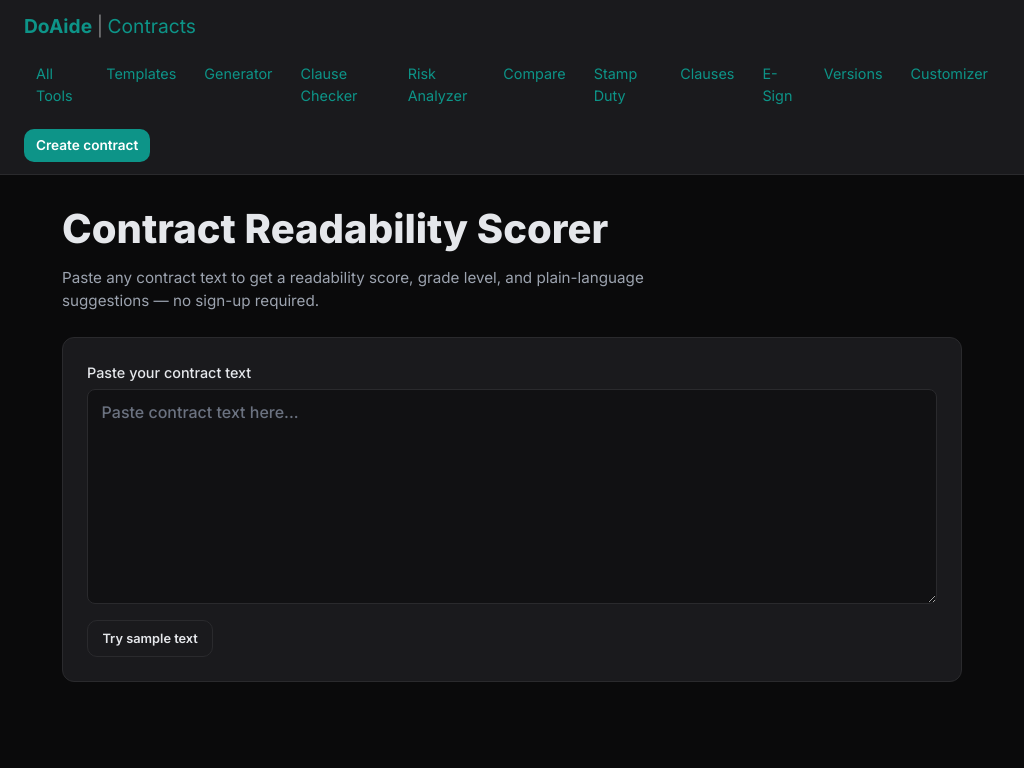
it: ReadabilityScorerPage › loads sample text on button click
Click the button "Try sample text" at {"x": 150, "y": 638}, box [87,620,213,657]
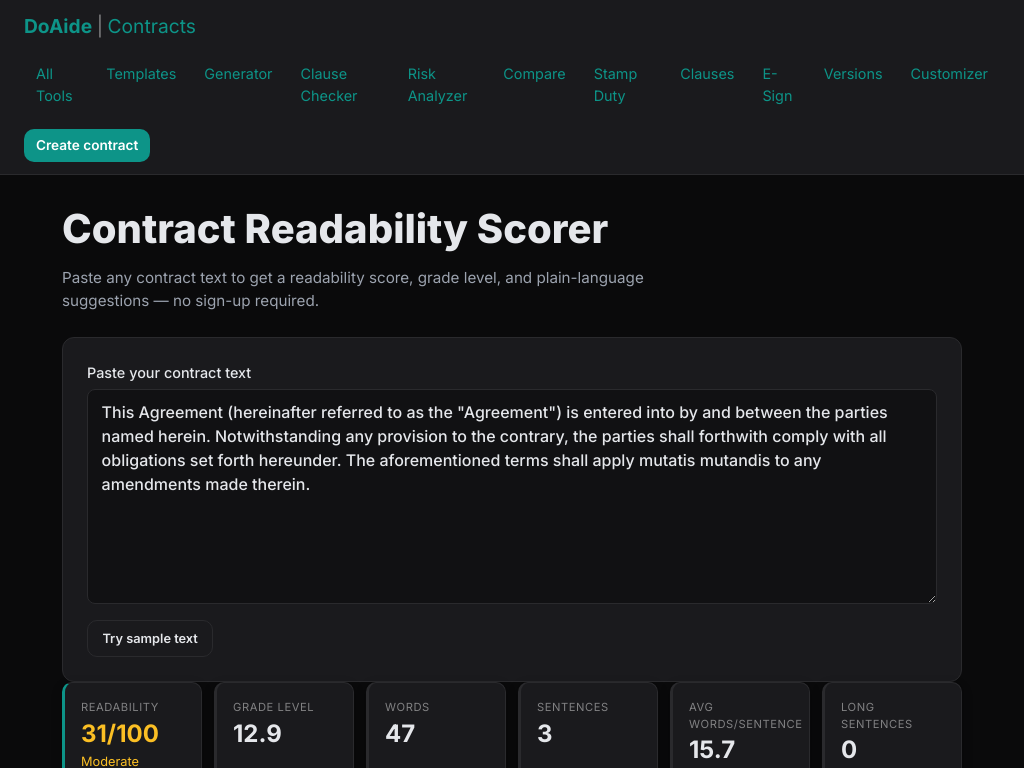
Expected: the text "Readability" is shown, [81,700,159,714]
